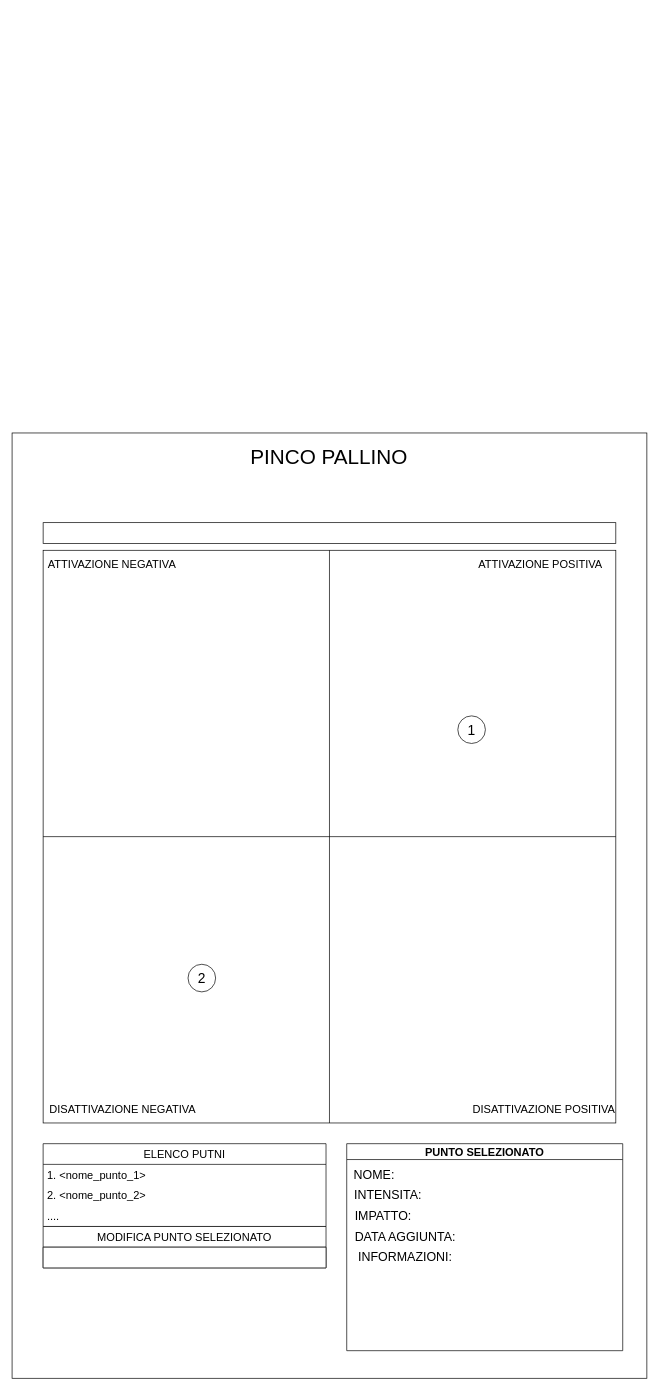
This 659x1390 diagram has some shape labels left out. The shapes that lost their labels are listed below. From the top down, each one's centre as x and y in pixels, then its label:
(329,532): <BARRA_DEGLI_STRUMENTI>
(184,1257): AGGIUNGI PUNTO
